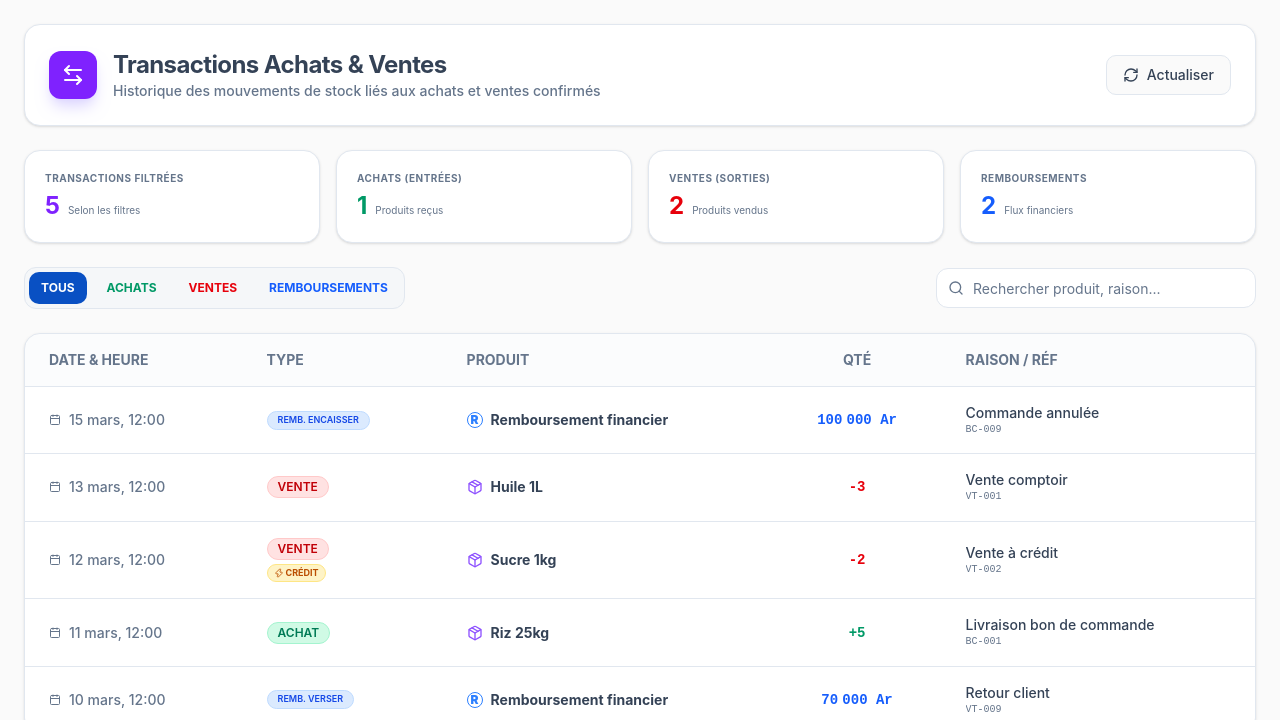
Test: Mission 4 — Transactions : filtres Tous / Achats / Ventes / Remboursements › « ACHATS » : filtre côté client (un seul chargement) et n'affiche que les entrées de stock
The width and height of the screenshot is (1280, 720).
Expected: the text "Riz 25kg" is shown, x1=467 y1=624 x2=549 y2=640
Click the button "ACHATS".
click(132, 288)  # box x1=94 y1=272 x2=168 y2=304
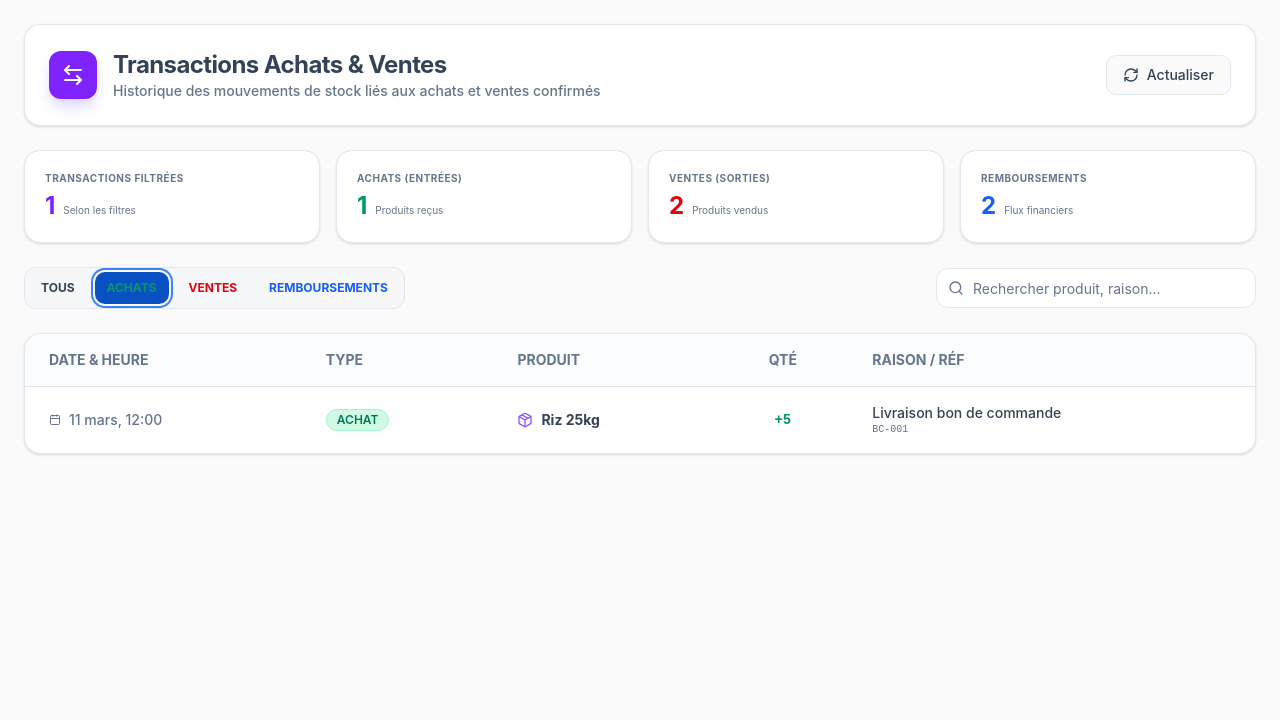
Expected: the text "Riz 25kg" is shown, x1=517 y1=411 x2=600 y2=428
Expected: the text "Huile 1L" is gone
Expected: the text "BC-009" is gone
